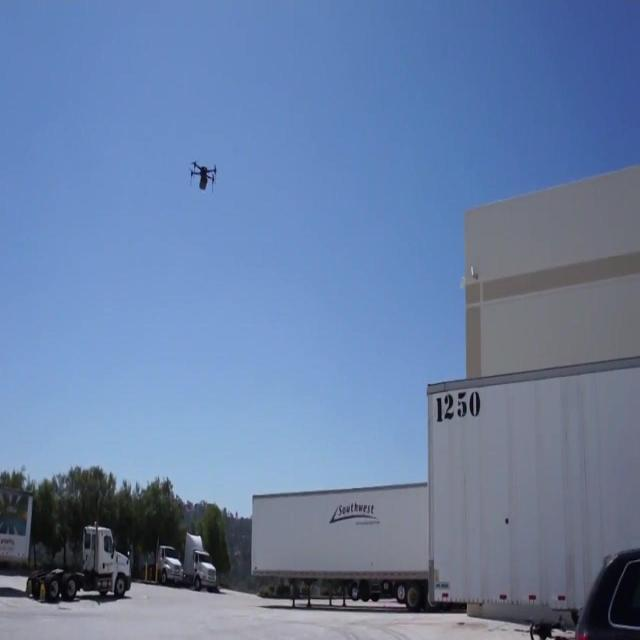drone: (187, 156, 220, 196)
